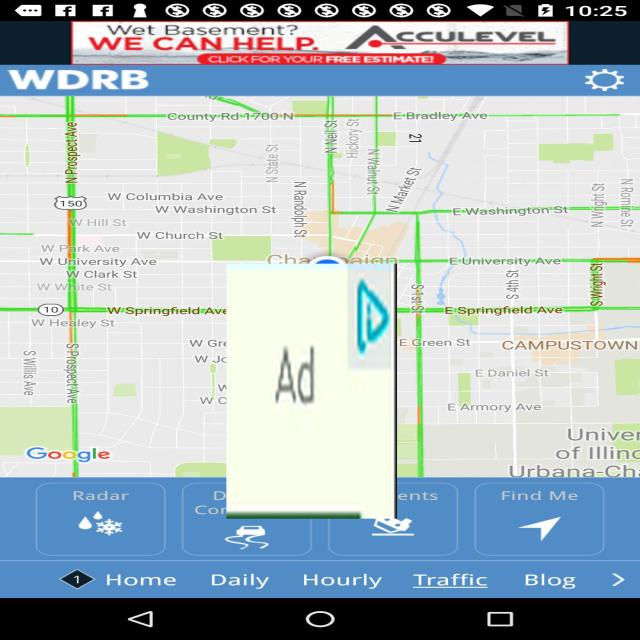sneaking: (226, 264, 397, 518)
